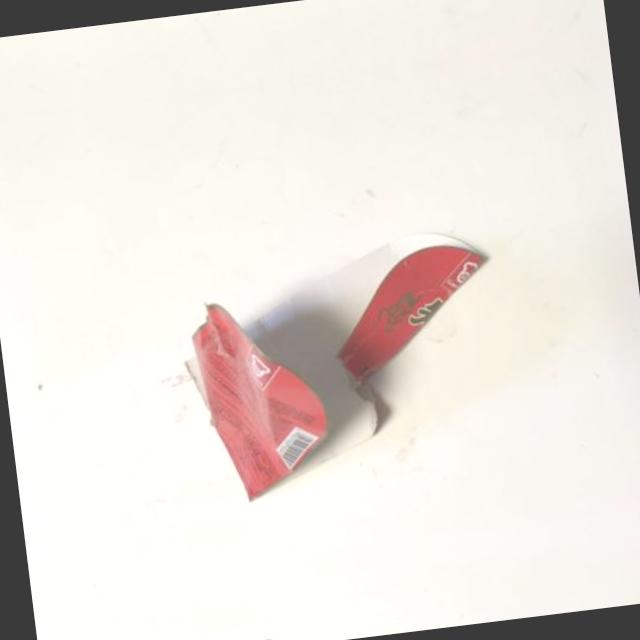paper: (91, 190, 528, 506), (143, 614, 546, 640)
